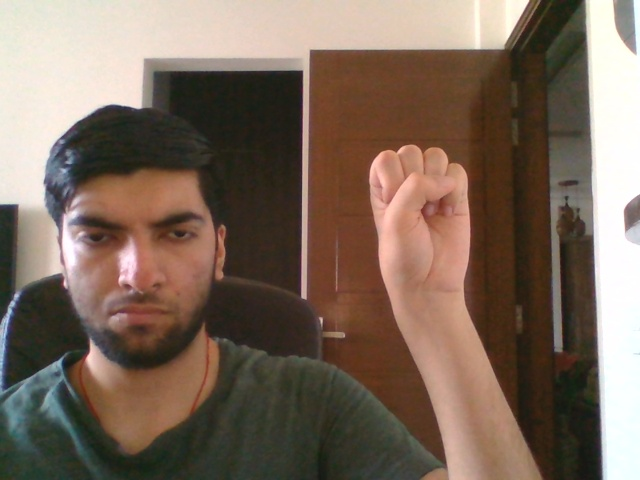LetterE: (368, 143, 472, 295)
